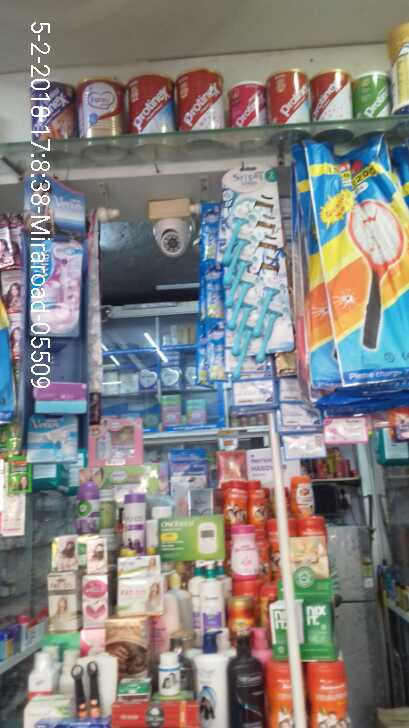beauty: (226, 205, 285, 376), (30, 239, 80, 338), (27, 411, 80, 463)
